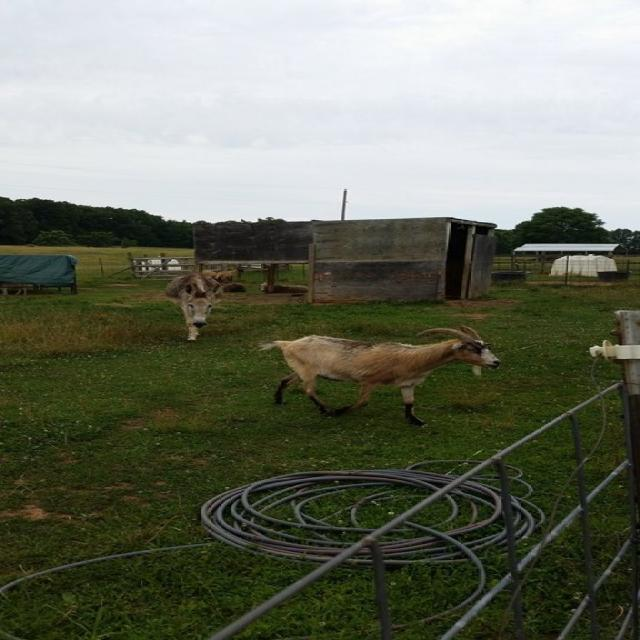Goat: (254, 333, 508, 431)
